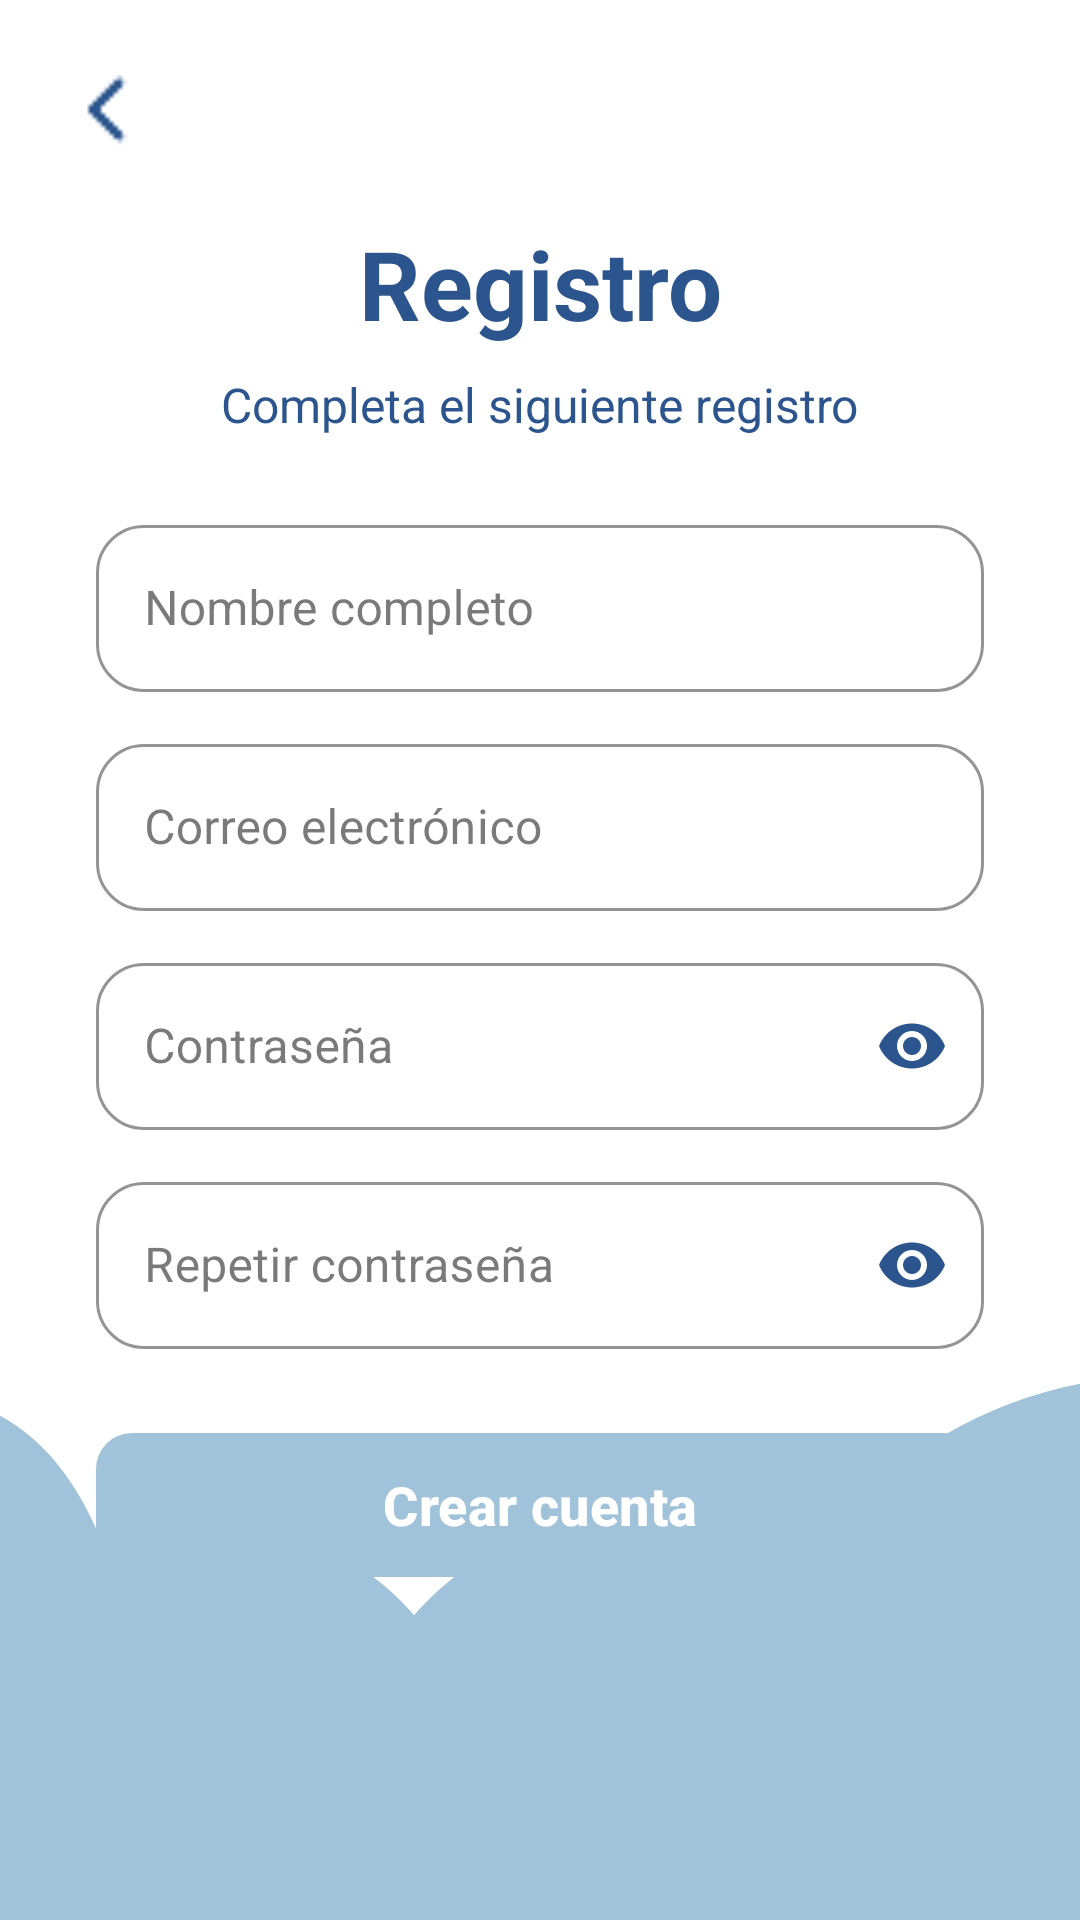

Named icons in this screenshot (1080px x 1920px) and their bounding boxes, (x1=x1, y1=y1, x2=x2, y2=y2):
back arrow: (x1=87, y1=75, x2=126, y2=143)
